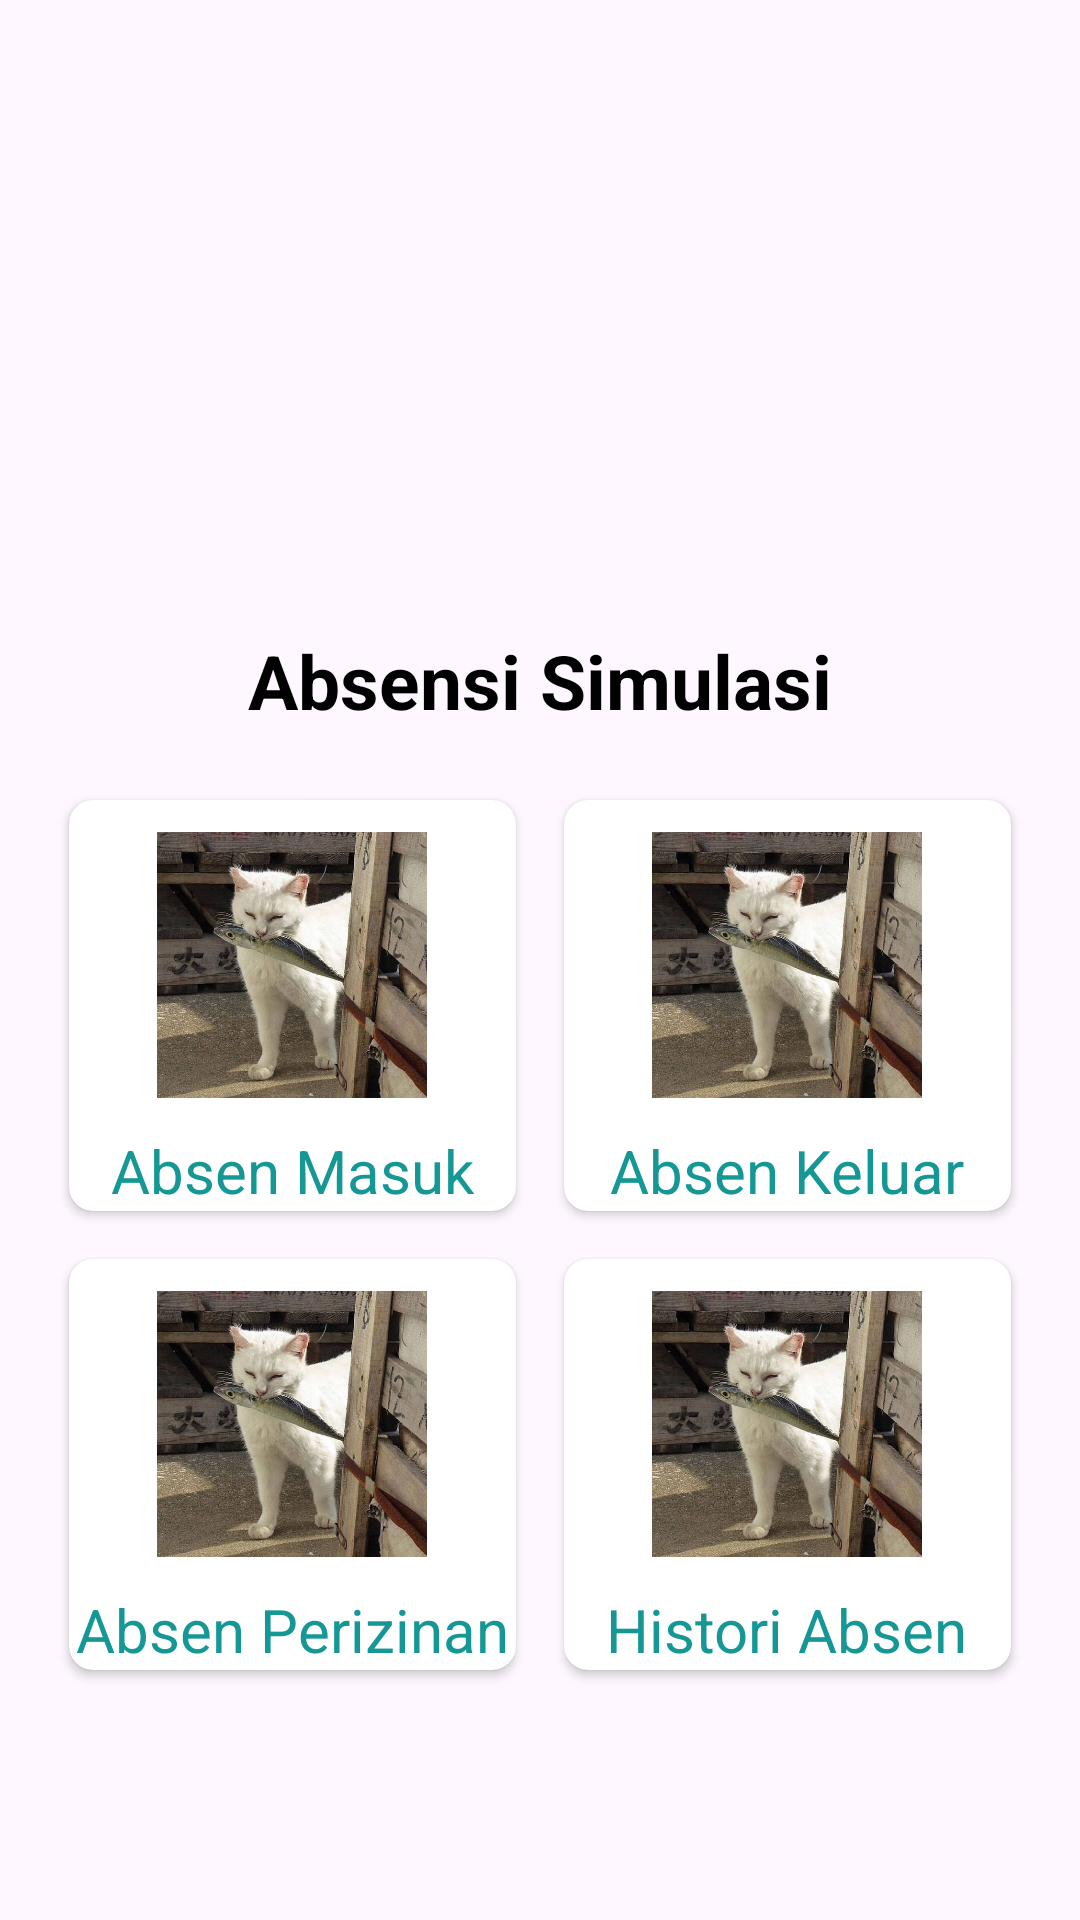

Point at icon controls on the screen. Image size 1080×1920, points as point (x, y).
user foto: point (292, 965), point (787, 965), point (292, 1424), point (787, 1424)
